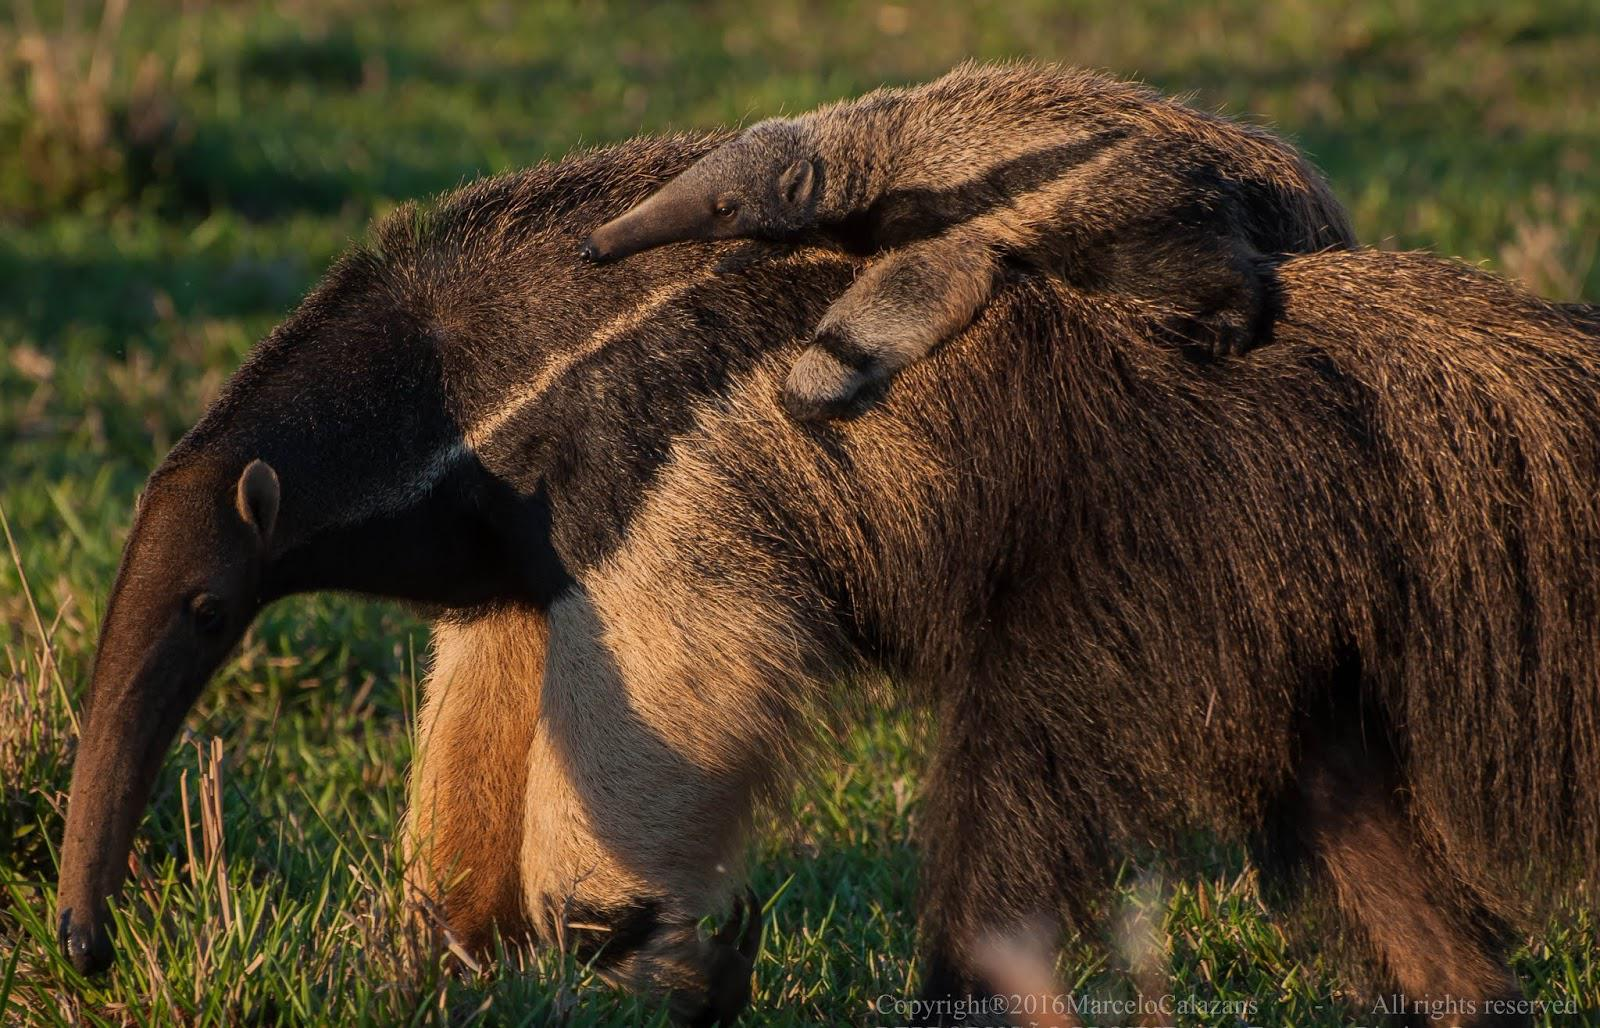TamanduaBandeira: (45, 124, 1584, 1004), (578, 52, 1346, 442)
